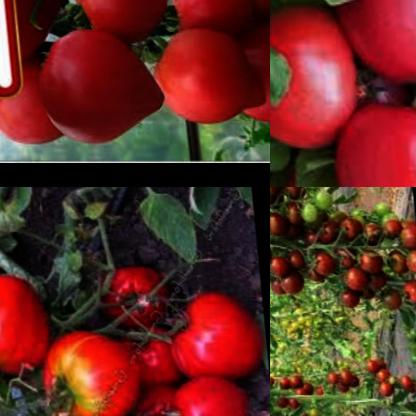tomato: (26, 29, 169, 148), (270, 0, 370, 151), (146, 26, 267, 125), (33, 330, 142, 416), (322, 93, 416, 187), (321, 0, 416, 84), (163, 290, 254, 376), (214, 12, 270, 129), (57, 0, 180, 51), (299, 197, 413, 249), (0, 264, 50, 379), (273, 145, 406, 187), (0, 58, 64, 145), (300, 243, 383, 307), (96, 260, 161, 334), (156, 370, 251, 416), (163, 0, 261, 42), (115, 322, 181, 380), (365, 250, 416, 314), (0, 0, 51, 58), (355, 356, 416, 397), (117, 378, 178, 416), (193, 0, 270, 30), (270, 187, 304, 239), (270, 237, 298, 294), (290, 187, 329, 222), (270, 374, 311, 406), (319, 372, 353, 392), (270, 404, 303, 416)
